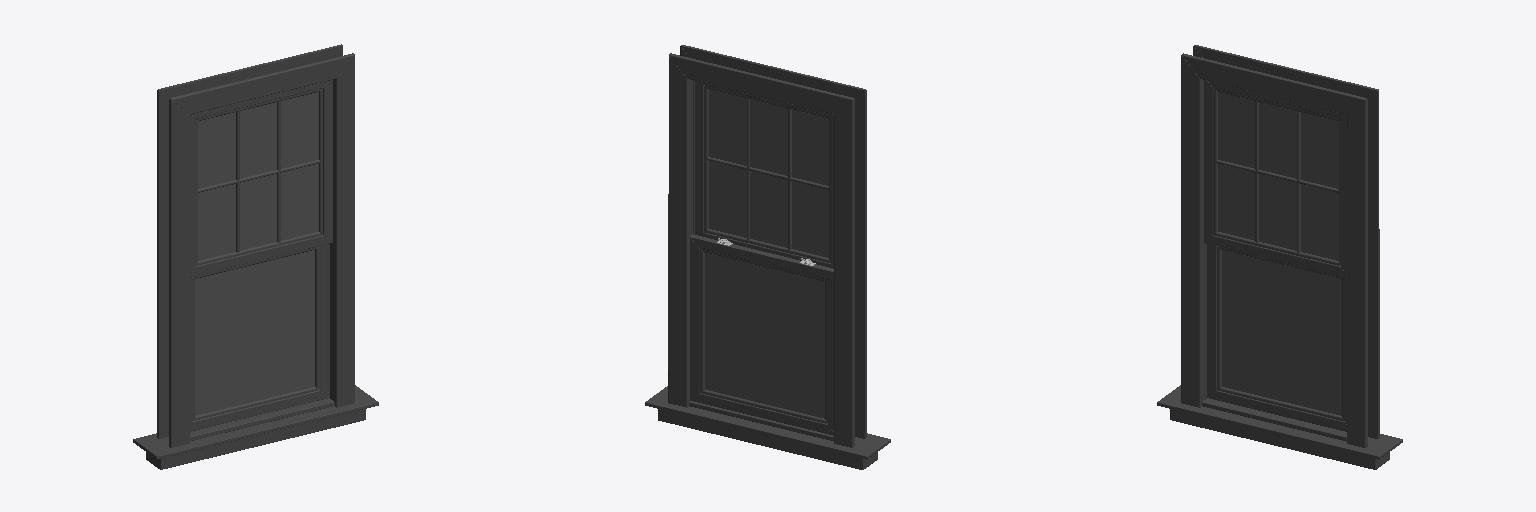
File: window.obj
3 renders of one model, left to right at view 1: azimuth 30°, elevation 25°; view 2: azimuth 150°, elevation 25°; view 3: azimuth 330°, elevation 25°, orthographic.
Parts seen in each view (by area): view 1: Window Objekt_03 Glass, Window Objekt_02 Glass1, Window Exterior_trim_01 Trim_vertival_02, Window Exterior_trim_01 Trim_vertival_01, Window Interior_Trim_01 Trim_vertival_011, Window Exterior_trim_01 Trim__horizontal_, Window Stool_cap, Window Objekt_01, Window Apron, Window Interior_Trim_01 Trim__horizontal_1, Window Objekt_02 Leaf Leaf__vertical_021, Window Objekt_03 Leaf1 Leaf__vertical_02 (+10 smaller); view 2: Window Objekt_03 Glass, Window Objekt_02 Glass1, Window Interior_Trim_01 Trim_vertival_011, Window Interior_Trim_01 Trim__vertival_02, Window Exterior_trim_01 Trim_vertival_02, Window Interior_Trim_01 Trim__horizontal_1, Window Stool_cap, Window Apron, Window Exterior_trim_01 Trim__horizontal_, Window Objekt_01, Window Objekt_03 Leaf1 Leaf__horizontal_011, Window Objekt_03 Leaf1 Leaf__vertical_02 (+9 smaller); view 3: Window Objekt_03 Glass, Window Objekt_02 Glass1, Window Exterior_trim_01 Trim_vertival_01, Window Exterior_trim_01 Trim_vertival_02, Window Interior_Trim_01 Trim__vertival_02, Window Exterior_trim_01 Trim__horizontal_, Window Stool_cap, Window Objekt_01, Window Apron, Window Interior_Trim_01 Trim__horizontal_1, Window Objekt_03 Leaf1 Leaf__vertical_01, Window Objekt_02 Leaf Leaf__vertical_011 (+10 smaller).
Part boxes in pixels (x1,y1,x2,y2): Window Objekt_03 Glass: (195,250,314,415); Window Objekt_02 Glass1: (198,92,318,260); Window Exterior_trim_01 Trim_vertival_02: (169,98,189,447); Window Exterior_trim_01 Trim_vertival_01: (335,56,354,407); Window Interior_Trim_01 Trim_vertival_011: (157,90,168,438); Window Exterior_trim_01 Trim__horizontal_: (170,53,354,113); Window Stool_cap: (133,385,378,459); Window Objekt_01: (190,79,334,440); Window Apron: (146,409,365,469); Window Interior_Trim_01 Trim__horizontal_1: (158,44,342,97); Window Objekt_02 Leaf Leaf__vertical_021: (323,80,332,241); Window Objekt_03 Leaf1 Leaf__vertical_02: (320,244,329,396); Window Objekt_03 Glass: (705,253,824,418); Window Objekt_02 Glass1: (709,89,828,257); Window Interior_Trim_01 Trim_vertival_011: (834,98,854,447); Window Interior_Trim_01 Trim__vertival_02: (668,56,688,407); Window Exterior_trim_01 Trim_vertival_02: (855,90,866,438); Window Interior_Trim_01 Trim__horizontal_1: (669,53,853,114); Window Stool_cap: (645,386,890,459); Window Apron: (658,409,877,469); Window Exterior_trim_01 Trim__horizontal_: (681,45,865,97); Window Objekt_01: (689,79,833,440); Window Objekt_03 Leaf1 Leaf__horizontal_011: (690,234,833,279); Window Objekt_03 Leaf1 Leaf__vertical_02: (690,238,699,399); Window Objekt_03 Glass: (1222,250,1341,415); Window Objekt_02 Glass1: (1218,92,1338,260); Window Exterior_trim_01 Trim_vertival_01: (1347,99,1367,447); Window Exterior_trim_01 Trim_vertival_02: (1181,55,1201,407); Window Interior_Trim_01 Trim__vertival_02: (1368,90,1379,438); Window Exterior_trim_01 Trim__horizontal_: (1182,53,1366,114); Window Stool_cap: (1157,385,1402,459); Window Objekt_01: (1202,80,1346,441); Window Apron: (1170,409,1389,469); Window Interior_Trim_01 Trim__horizontal_1: (1194,45,1378,98); Window Objekt_03 Leaf1 Leaf__vertical_01: (1207,244,1216,396); Window Objekt_02 Leaf Leaf__vertical_011: (1204,80,1212,242).
Size of the model in its own units: 1049 by 1660 by 196.